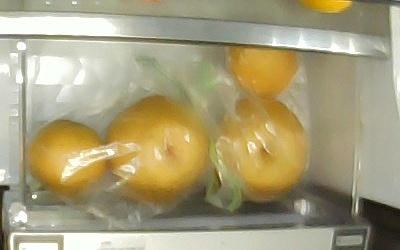pear_vinyl: (105, 95, 210, 204), (217, 99, 308, 202), (29, 120, 104, 196), (226, 44, 301, 98)
